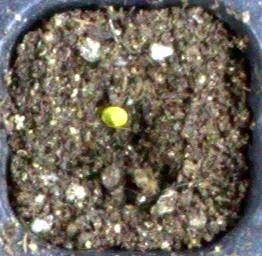chilli seed: (100, 106, 128, 127)
